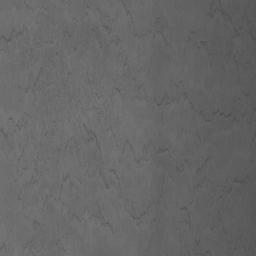Silk spot: (0, 0, 256, 256), (0, 230, 43, 256)
